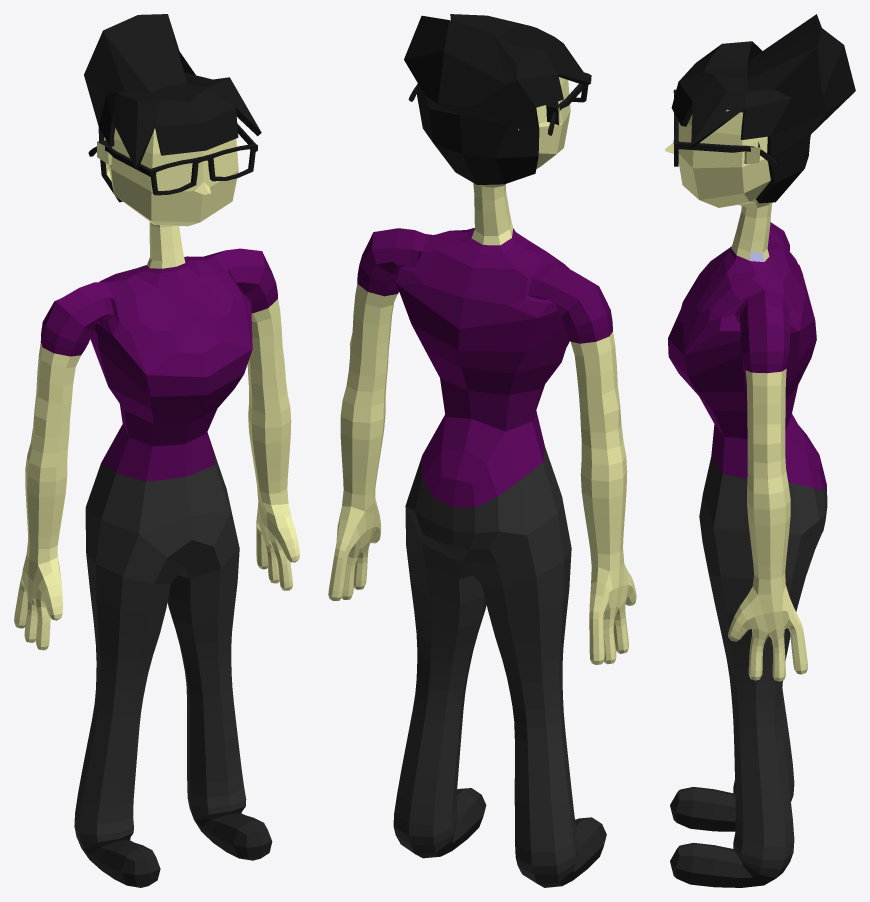
File: npc6.fbx
3 views of the same model, side by side, from view 1: azimuth 30°, elevation 25°; view 2: azimuth 150°, elevation 25°; view 3: azimuth 270°, elevation 25° (orthographic). The views are drawn at different scales.
Parts seen in each view (by area): view 1: npc2; view 2: npc2; view 3: npc2.
Boxes of the visible parts, bbox=[...] form: npc2: bbox=[14, 14, 299, 887]; npc2: bbox=[328, 14, 636, 887]; npc2: bbox=[665, 14, 855, 887].
Size of the model in its own units: 108 by 323 by 67.
